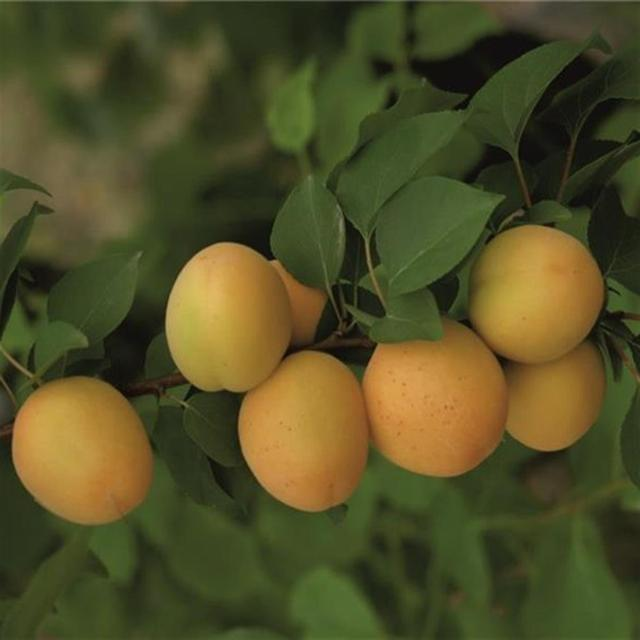kayisi: (363, 318, 508, 476), (15, 377, 156, 517), (239, 354, 367, 508), (164, 243, 297, 391), (473, 223, 600, 361), (505, 340, 604, 452)
yaprak: (330, 107, 469, 234), (377, 179, 504, 301), (464, 39, 577, 156), (273, 181, 345, 297), (41, 253, 137, 339)
